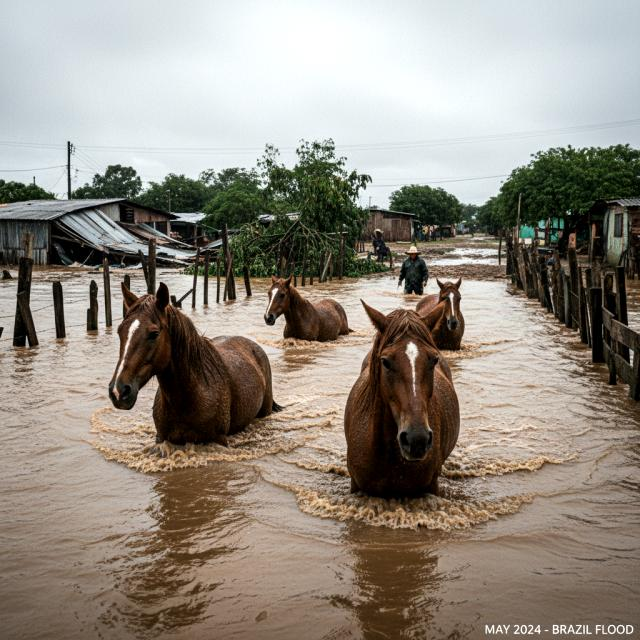civilian: (394, 242, 431, 299)
horse: (100, 278, 277, 451), (324, 300, 466, 499), (262, 275, 352, 349), (409, 277, 477, 369)
